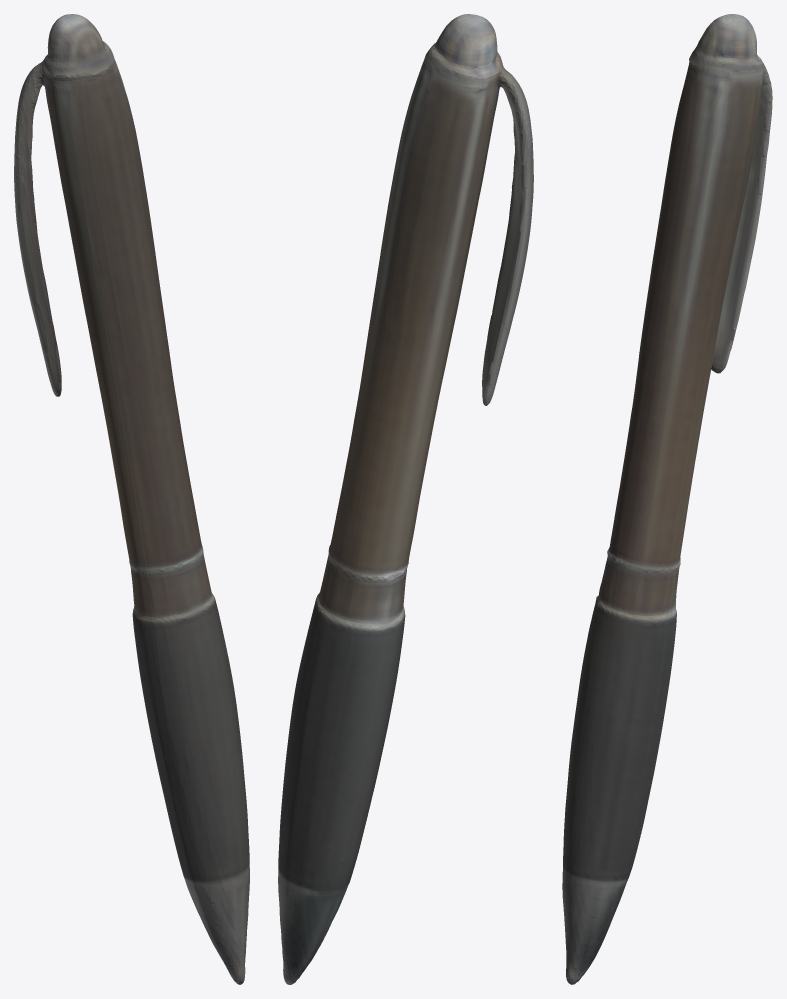
Rendered from frame_0046_source_000046_object.glb.
The picture shows the model from 3 angles, left to right: view 1: azimuth 30°, elevation 25°; view 2: azimuth 210°, elevation 25°; view 3: azimuth 270°, elevation 25°; orthographic projection. The views are drawn at different scales.
Visible parts, largest first — view 1: world; view 2: world; view 3: world.
Part boxes in pixels (x1,y1,x2,y2): world: (14,14,249,984); world: (278,14,533,984); world: (562,14,772,984).
Bounding box in the file's own units: 0.0333 × 0.1889 × 0.0388.
